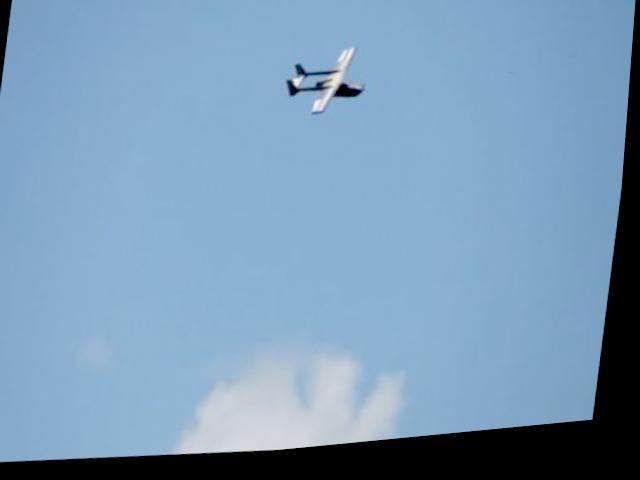uav: (283, 45, 375, 128)
